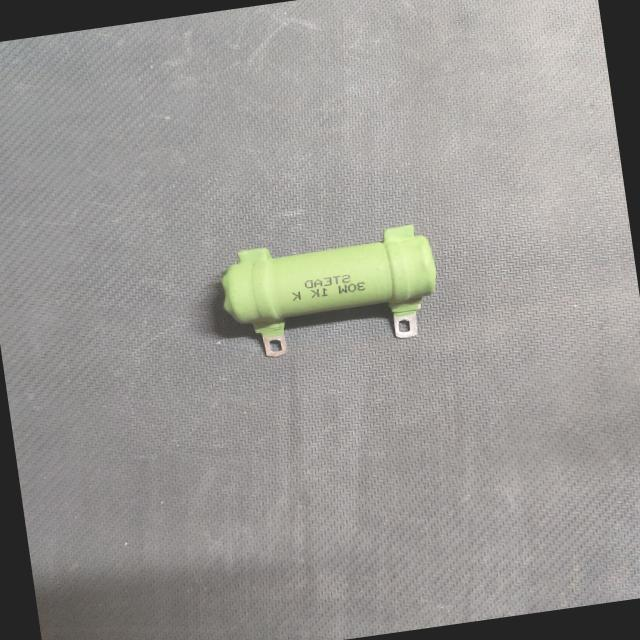resistor: (203, 211, 454, 368)
